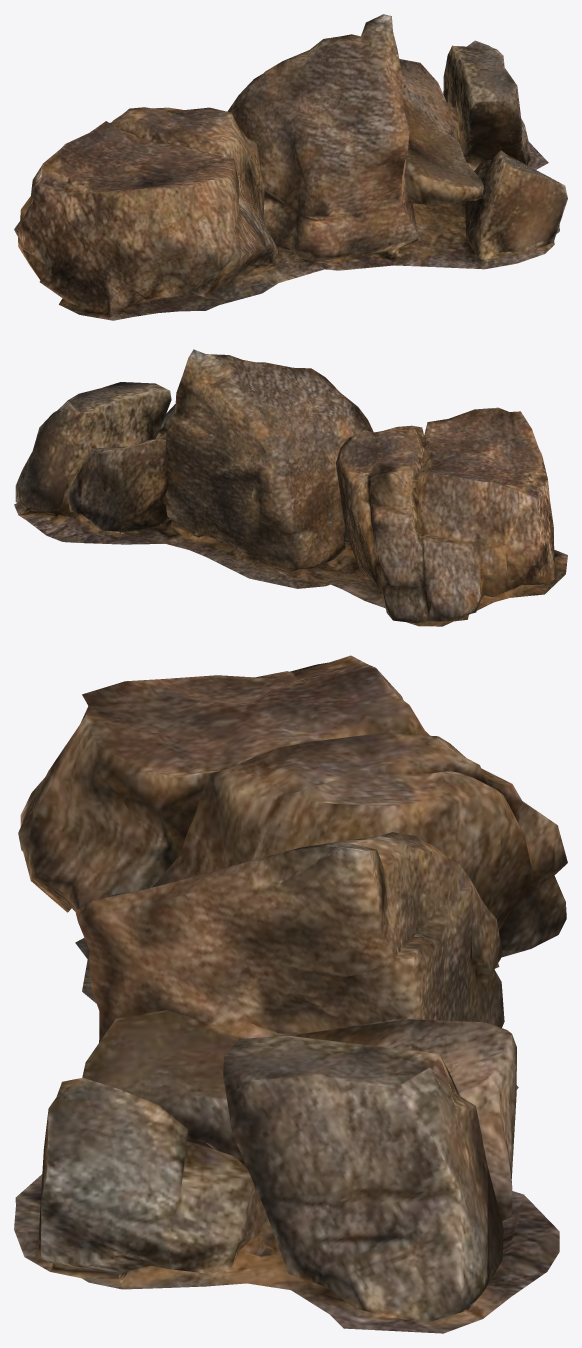
The model's file is boulder_brown.glb.
3 renders of one model, top to bottom at view 1: azimuth 30°, elevation 25°; view 2: azimuth 150°, elevation 25°; view 3: azimuth 270°, elevation 25°, orthographic. The views are drawn at different scales.
Size of the model in its own units: 2.51 by 0.8788 by 1.23.
Materials: 1 (1 with a texture image).
